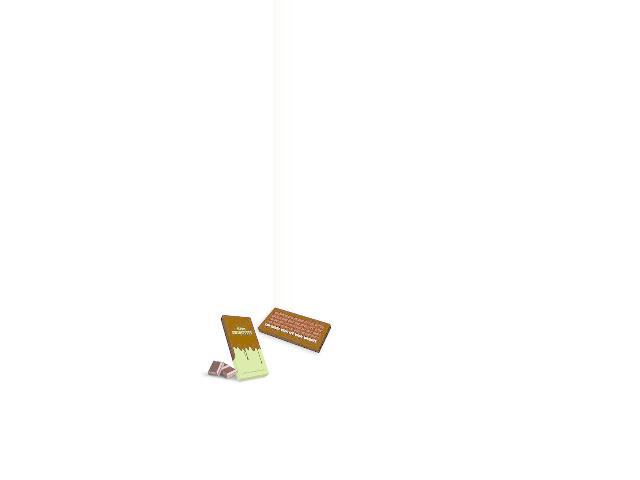chocolate: (225, 313, 265, 383)
